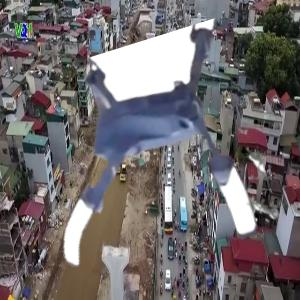drone: (28, 47, 260, 279)
